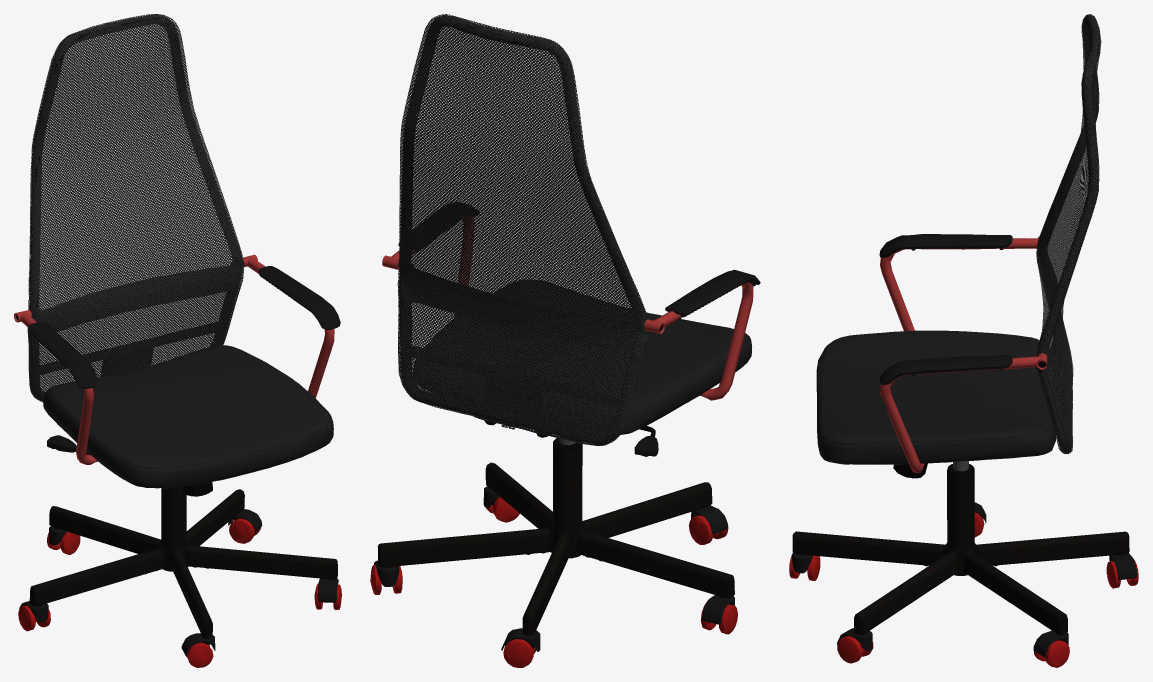
Rendered from huvudspelare_krzeso_gamingowe_90507603.glb.
3 renders of one model, left to right at view 1: azimuth 30°, elevation 25°; view 2: azimuth 150°, elevation 25°; view 3: azimuth 270°, elevation 25°, orthographic. The views are drawn at different scales.
Parts seen in each view (by area): view 1: huvudspelare_krzeso_gamingowe_90507603; view 2: huvudspelare_krzeso_gamingowe_90507603; view 3: huvudspelare_krzeso_gamingowe_90507603.
Boxes of the visible parts, left/top/right/bottom form: huvudspelare_krzeso_gamingowe_90507603: left=14, top=14, right=341, bottom=667; huvudspelare_krzeso_gamingowe_90507603: left=370, top=14, right=760, bottom=667; huvudspelare_krzeso_gamingowe_90507603: left=789, top=14, right=1138, bottom=667.
Size of the model in its own units: 0.6295 by 1.14 by 0.6381.
2 materials, 2 textured.
